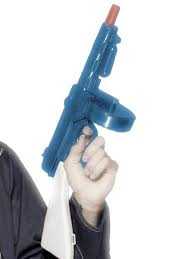Arma Falsa: (39, 4, 136, 177)
